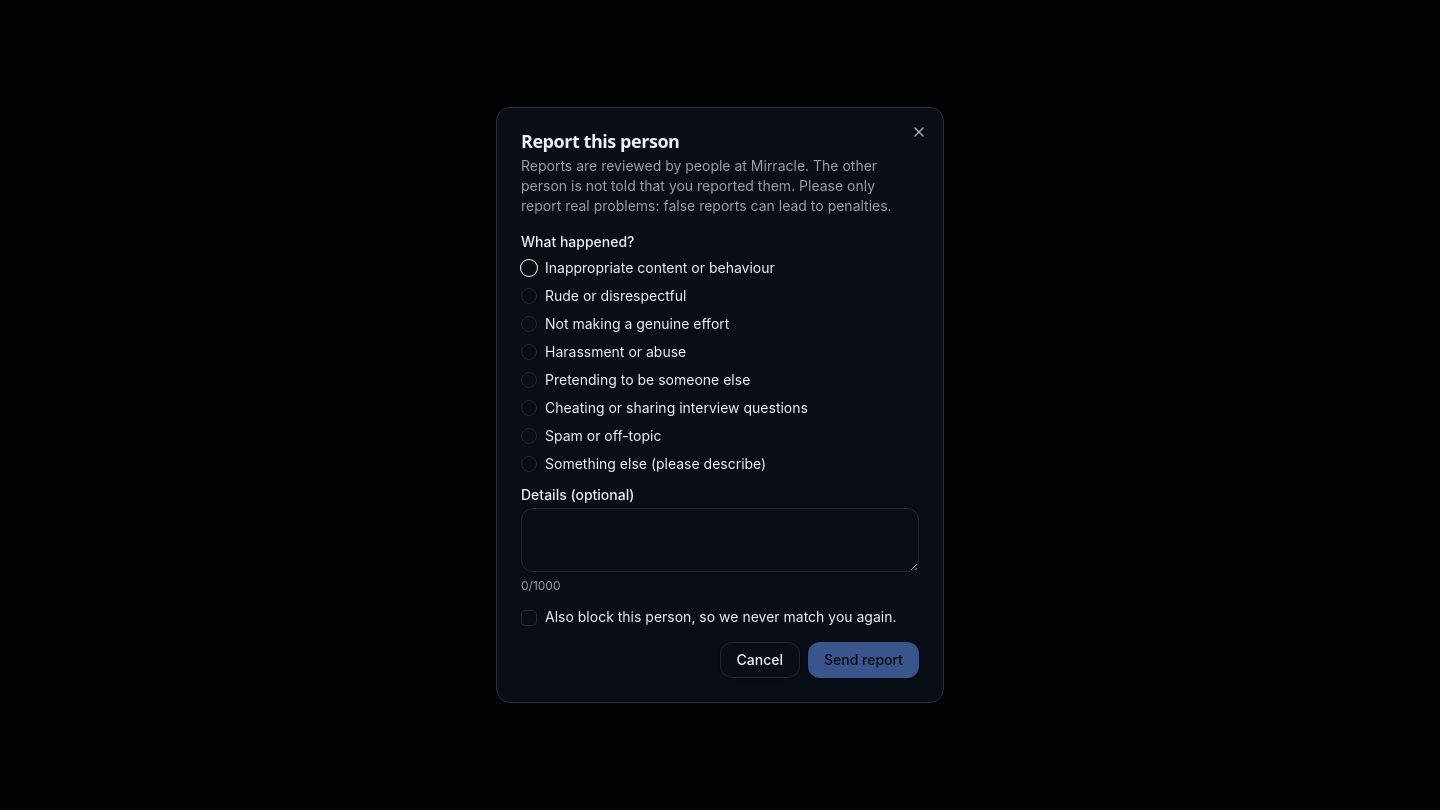
Test: PeerReportDialog › does nothing until a reason is chosen, then sends the room (never a person)
Later steps or results of the test are not shown.
Expected: the button "Send report" is disabled, top-left (808, 642), bottom-right (919, 678)
Step 1. Click the radio button named "Harassment or abuse" next to "Harassment or abuse" → click(529, 352), box top-left (521, 344), bottom-right (537, 360)
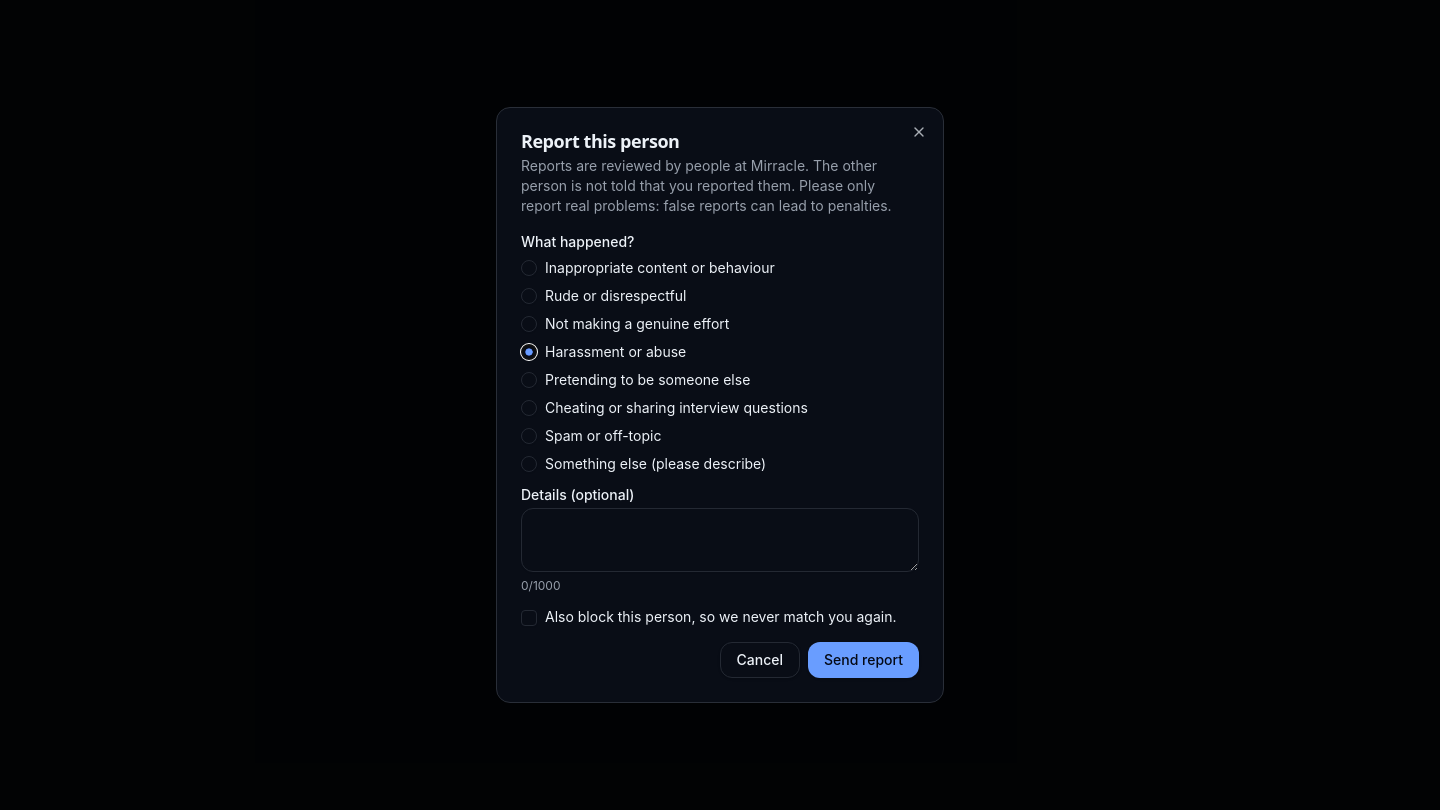
Step 2. Type "  rude  " into the text box labelled "Details (optional)" → (720, 540), box top-left (521, 508), bottom-right (919, 572)
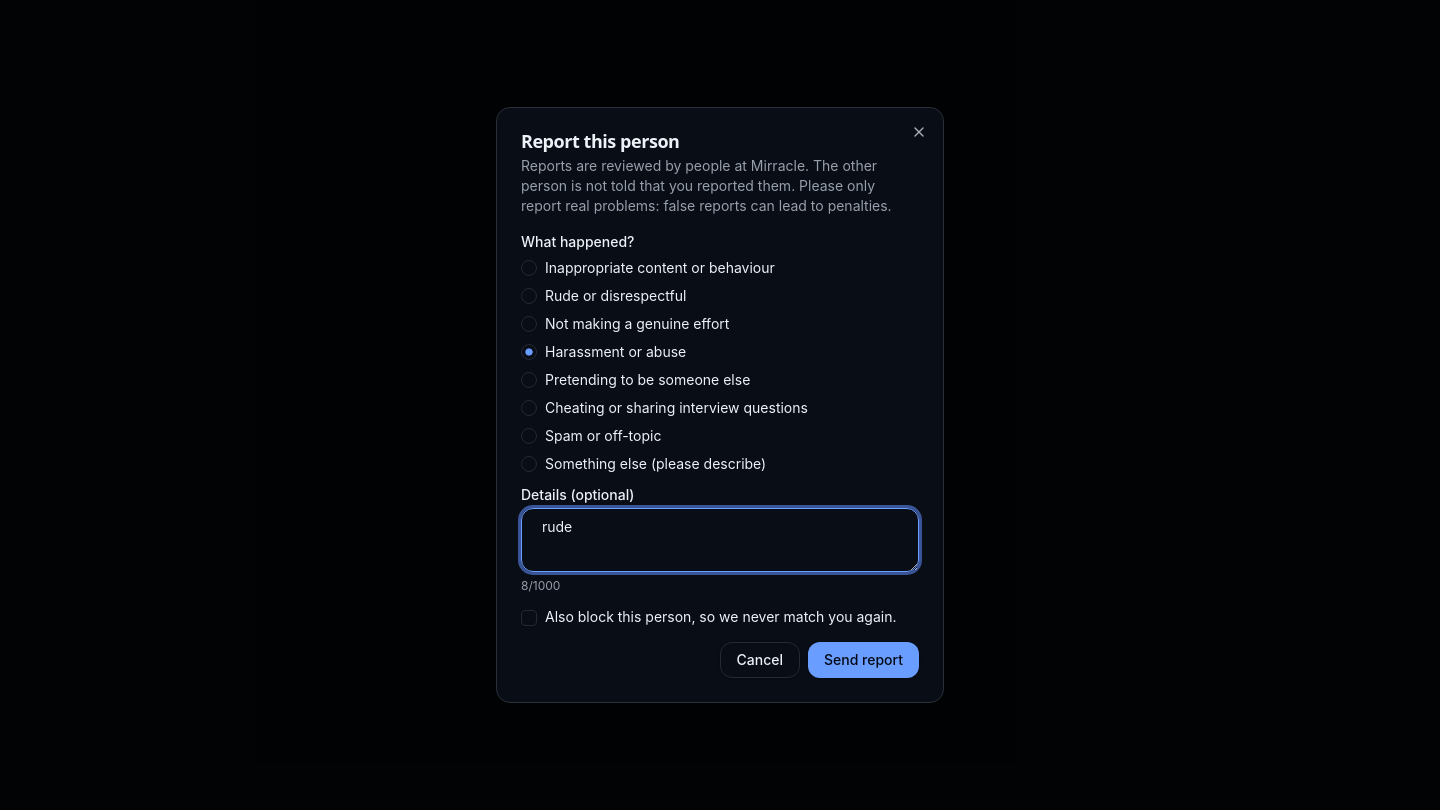
Expected: the button "Send report" is enabled, top-left (808, 642), bottom-right (919, 678)
